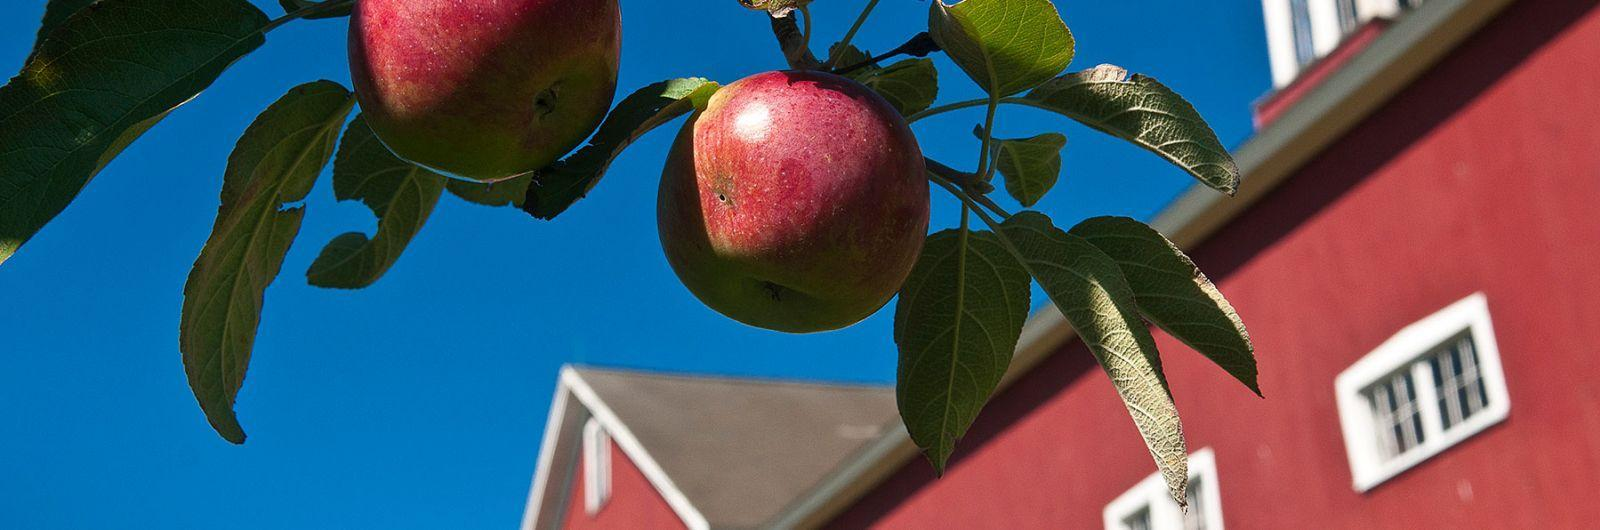apple: (660, 73, 936, 340), (351, 2, 619, 191)
